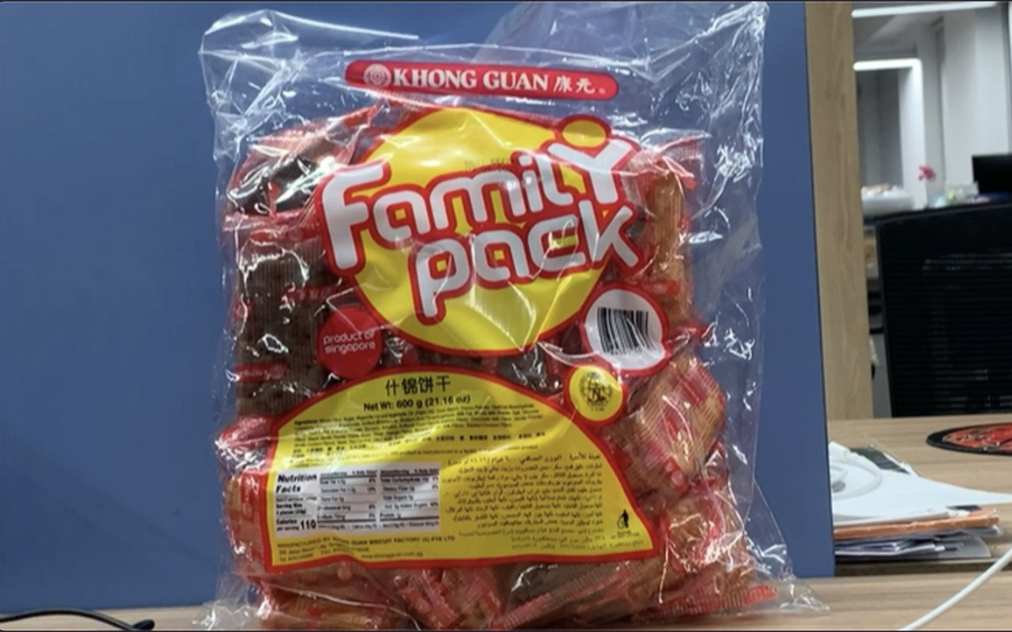cookies_600g-699g: (268, 66, 689, 554)
